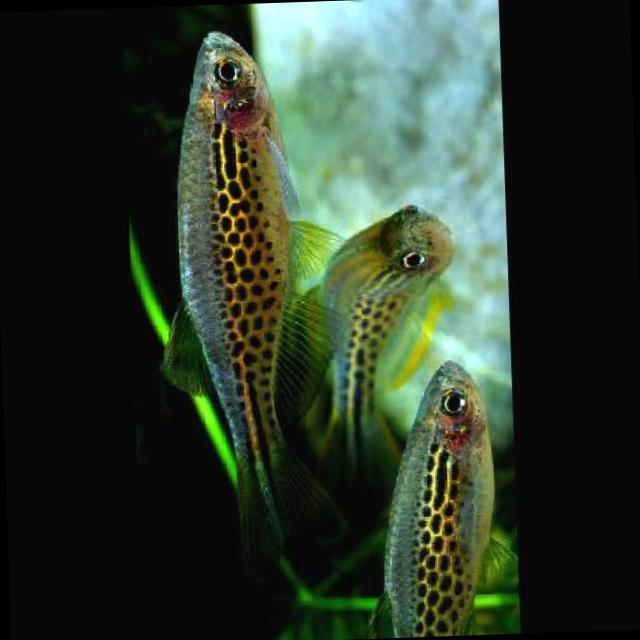ZebraFish: (146, 21, 338, 558)
